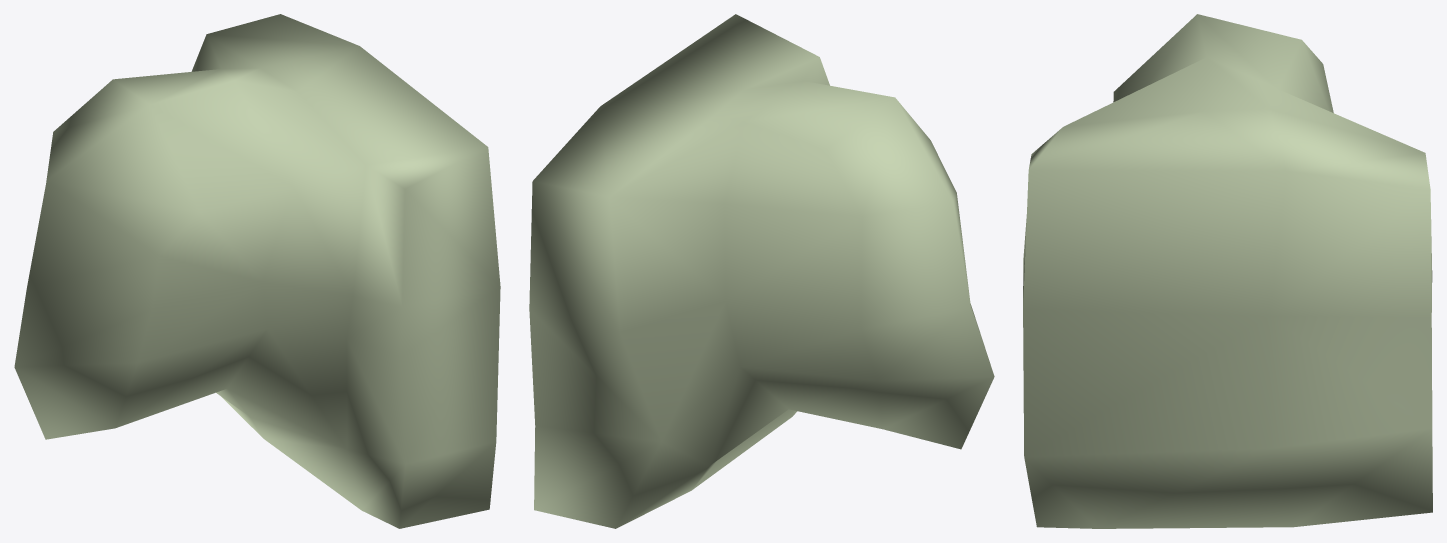
The model's file is Statue_06_Lod2.fbx.
3 views of the same model, side by side, from view 1: azimuth 30°, elevation 25°; view 2: azimuth 150°, elevation 25°; view 3: azimuth 270°, elevation 25° (orthographic). The views are drawn at different scales.
Parts seen in each view (by area): view 1: Statue_06_Lod2; view 2: Statue_06_Lod2; view 3: Statue_06_Lod2.
Part boxes in pixels (left/top/right/bottom): Statue_06_Lod2: left=14, top=14, right=500, bottom=528; Statue_06_Lod2: left=529, top=14, right=994, bottom=528; Statue_06_Lod2: left=1023, top=14, right=1432, bottom=528.
Bounding box in the file's own units: 60.14 × 62.02 × 58.34.
